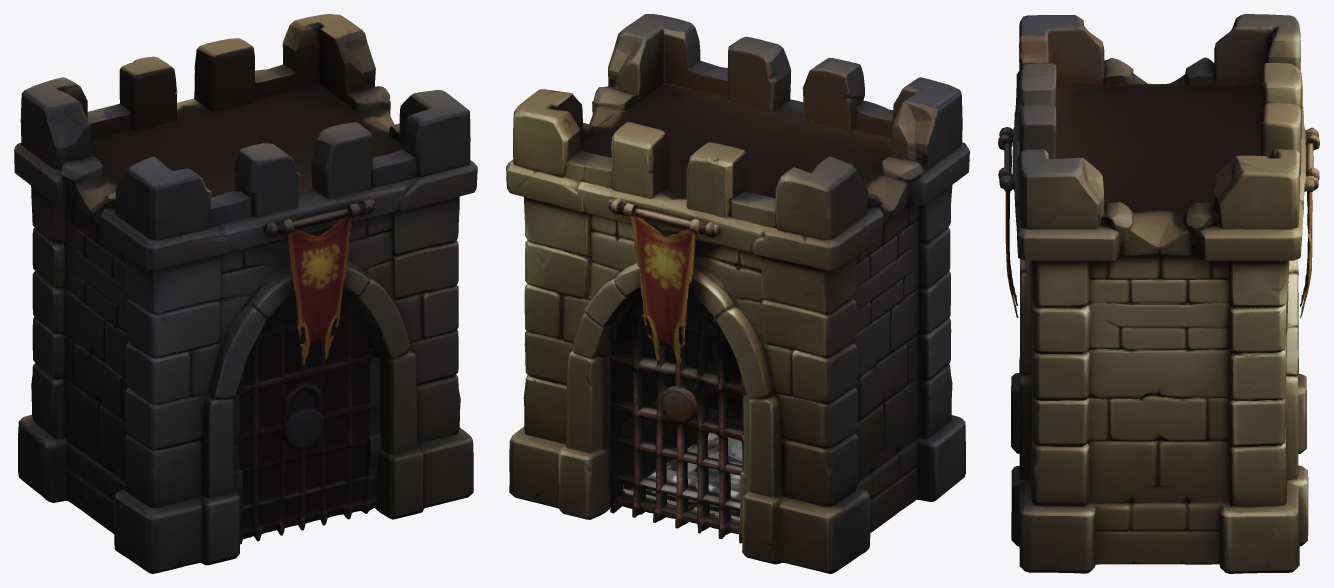
Rendered from gatehouse.glb.
3 renders of one model, left to right at view 1: azimuth 30°, elevation 25°; view 2: azimuth 150°, elevation 25°; view 3: azimuth 270°, elevation 25°, orthographic. The views are drawn at different scales.
Parts seen in each view (by area): view 1: geometry_0; view 2: geometry_0; view 3: geometry_0.
Part boxes in pixels (bbox=[...]): geometry_0: bbox=[14, 14, 477, 573]; geometry_0: bbox=[506, 14, 969, 573]; geometry_0: bbox=[998, 14, 1319, 573].
Size of the model in its own units: 0.898 by 1 by 0.7266.
Materials: 1 (1 with a texture image).
